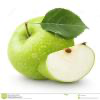Apple leaf: (39, 6, 91, 41)
